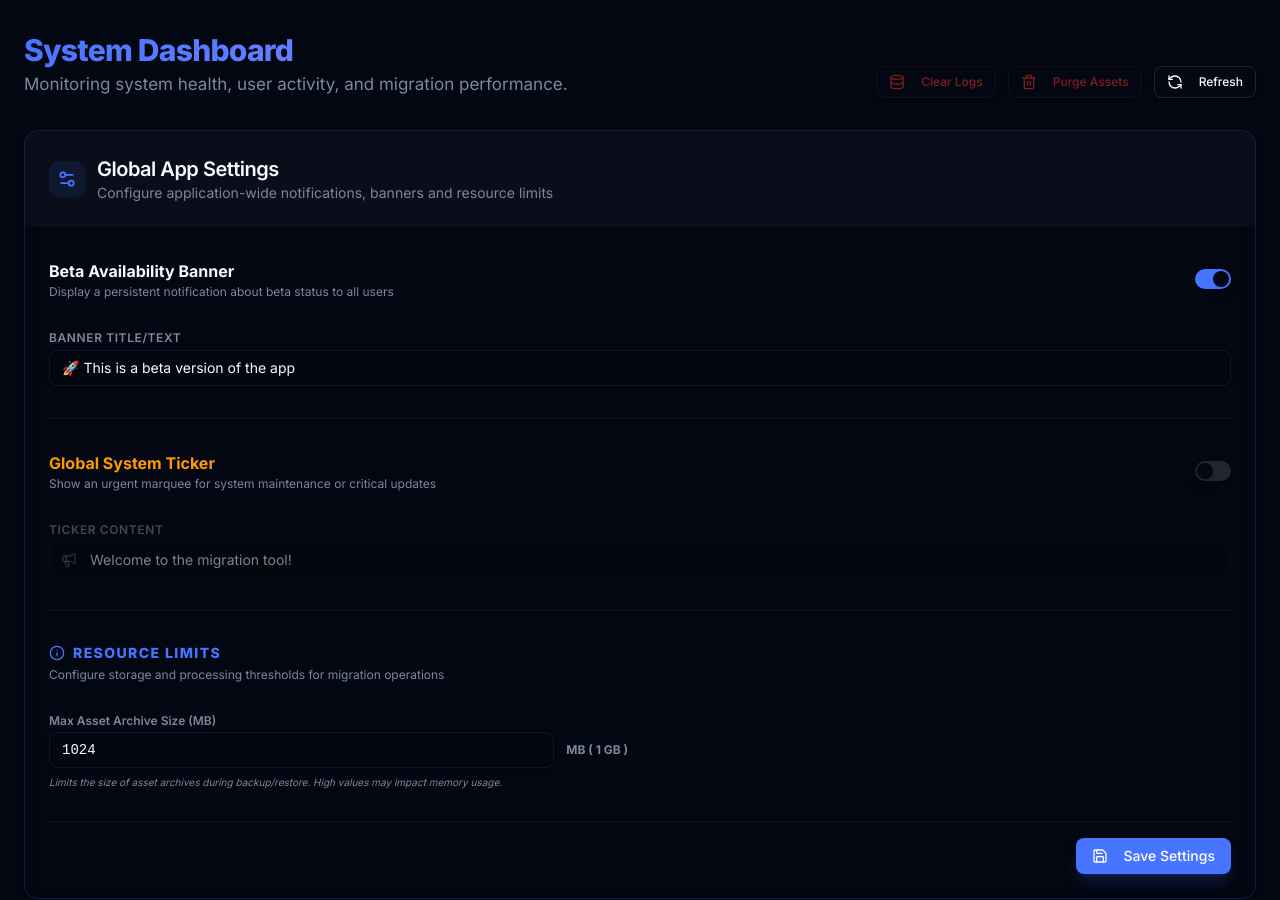
Test case: AdminLogsPage — dashboard › opens Clear Logs dialog
This screenshot has width=1280, height=900.
Check: the heading "System Dashboard" is shown, box top-left (24, 32), bottom-right (568, 68)
Step 1. Click the button "Clear Logs" → [936, 82], box top-left (876, 66), bottom-right (996, 98)
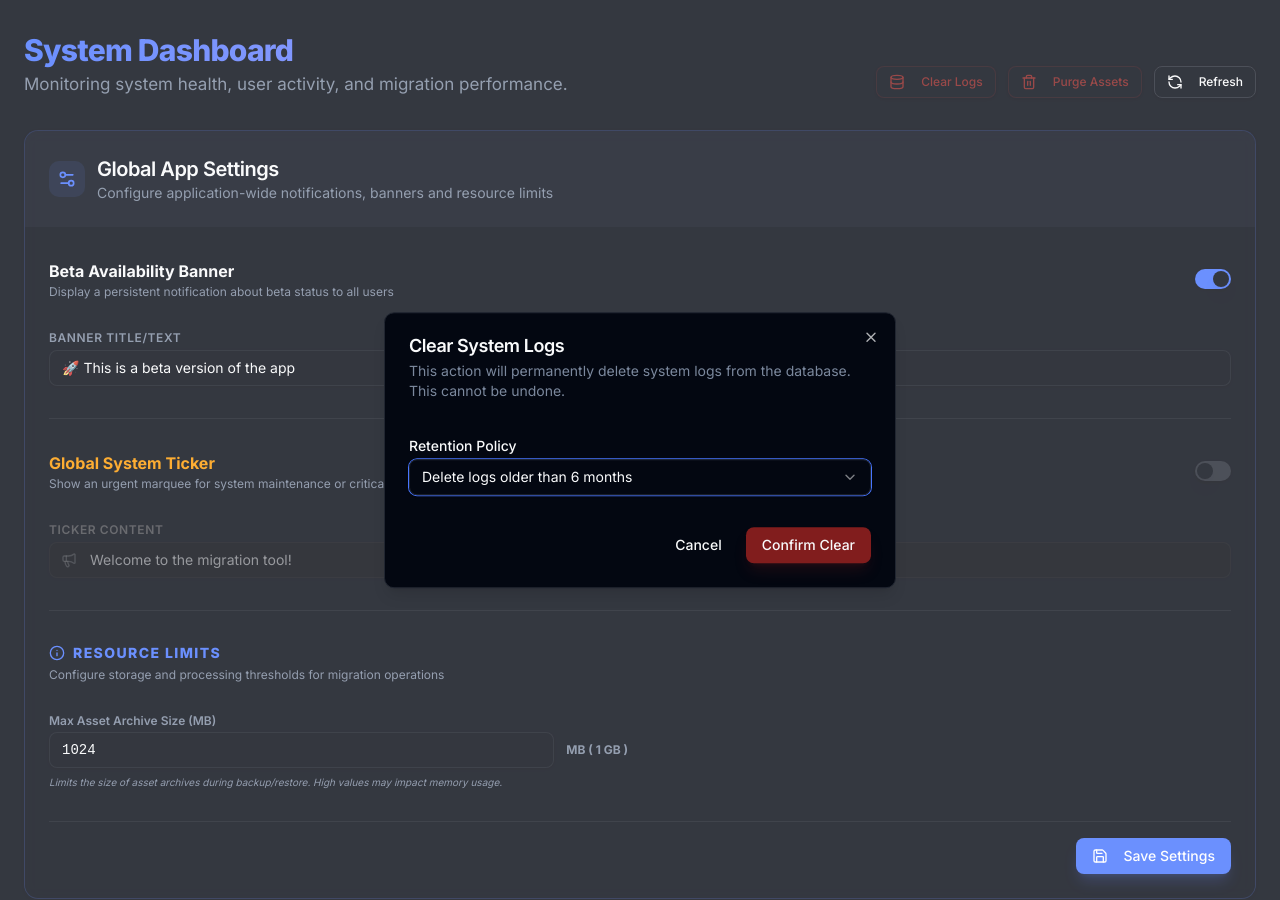
Check: the heading "Clear System Logs" is shown, box top-left (409, 335), bottom-right (564, 356)
